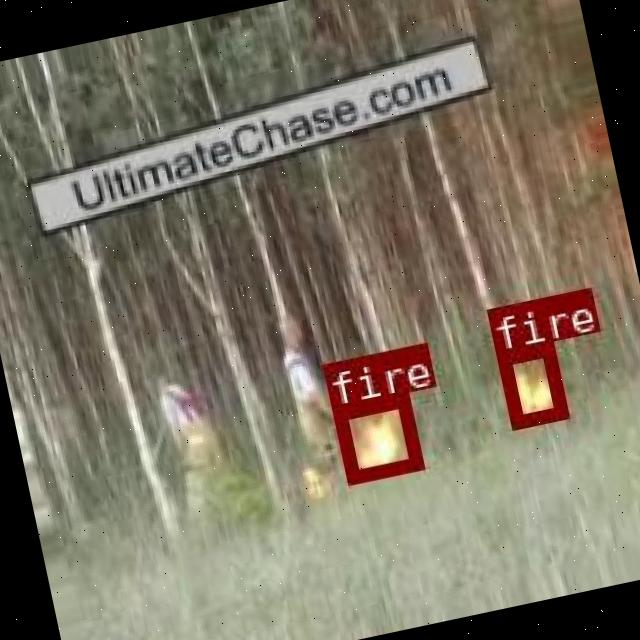fire: (330, 391, 422, 483), (493, 340, 564, 426)
